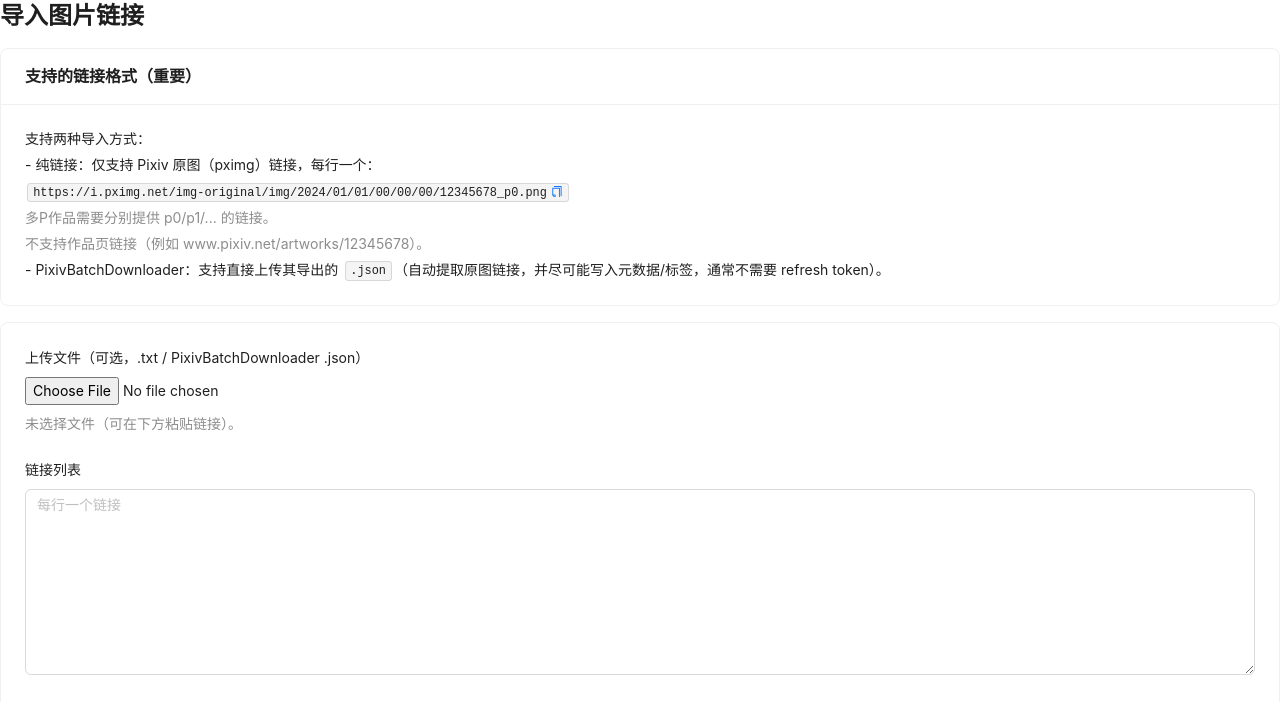
Test case: ImportPage › submits import and shows request_id
The image size is (1280, 702).
Type "https://example.com/1" into the text box with placeholder "每行一个链接" at (640, 582), box x1=25 y1=489 x2=1255 y2=675
(page scrolled)
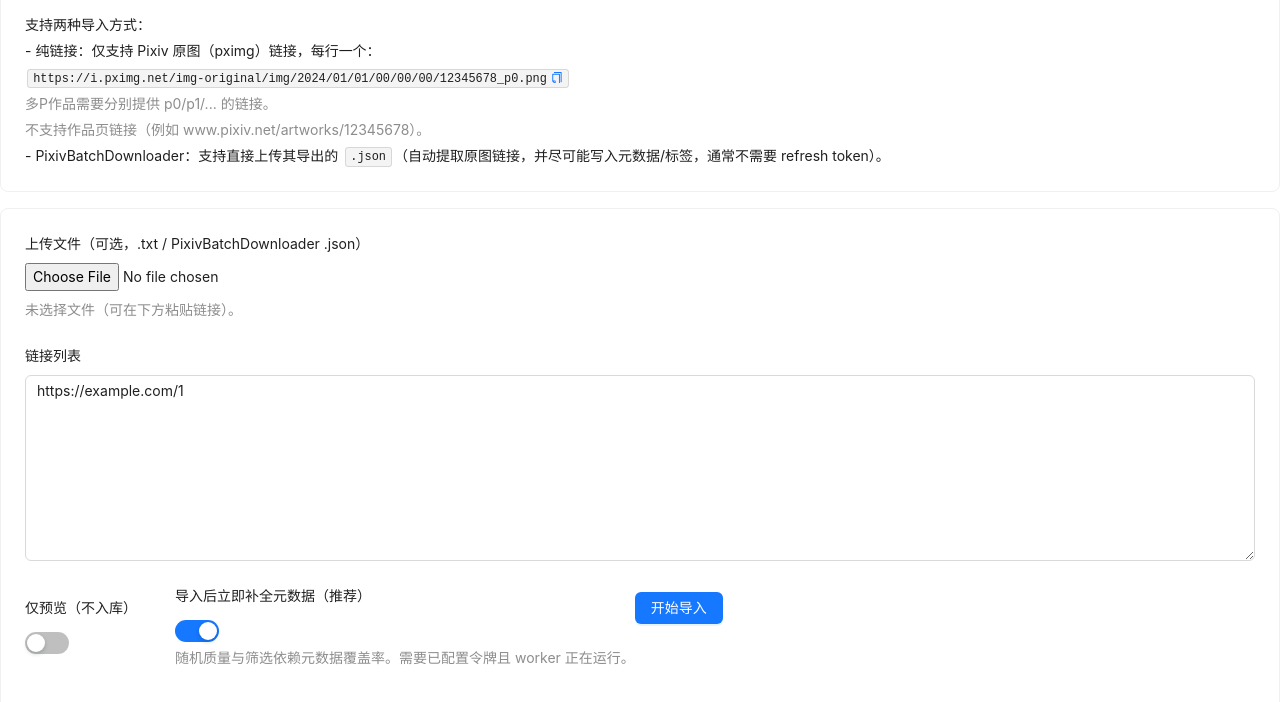
Click the button "开始导入" at (679, 608), box x1=635 y1=592 x2=723 y2=624
(page scrolled)
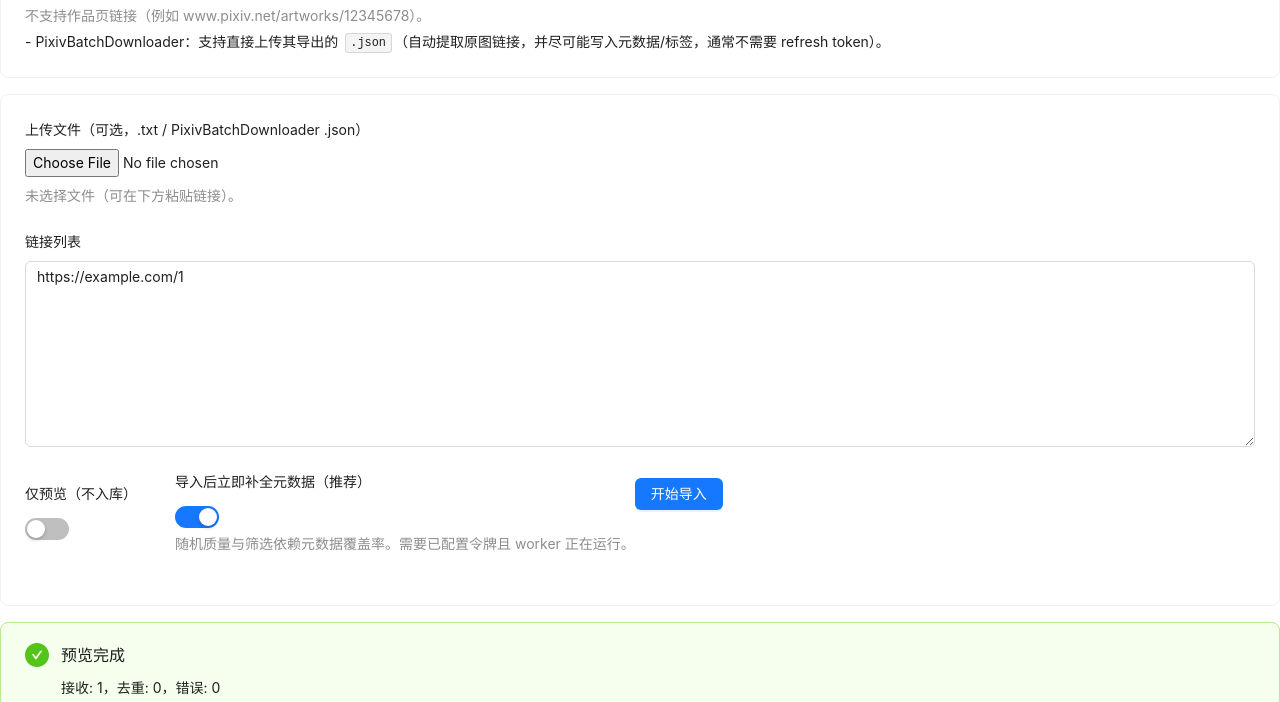
expect the text "接收: 1，去重: 0，错误: 0" is shown: met, box x1=61 y1=678 x2=220 y2=696
